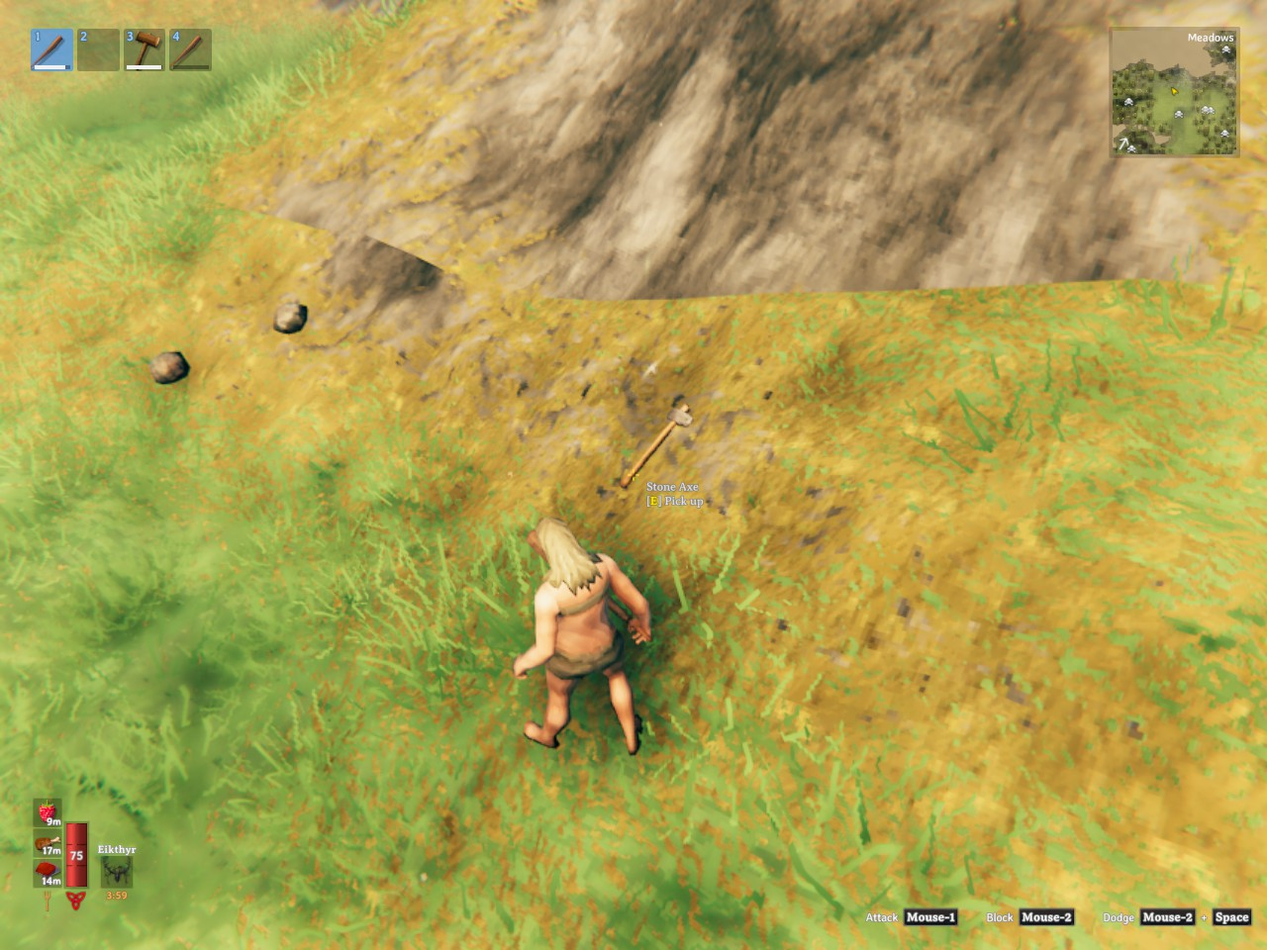Food Indicator: (36, 797, 63, 891)
Health Bar: (63, 820, 90, 891)
Hotbar: (25, 21, 398, 78)
Stone: (150, 352, 189, 383), (273, 301, 307, 332)
Stone Axe: (621, 405, 691, 487)
